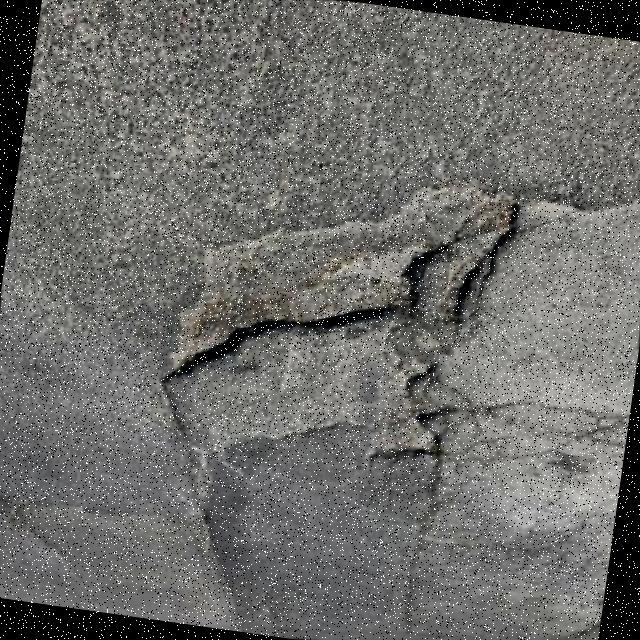Pothole: (171, 187, 487, 367)
